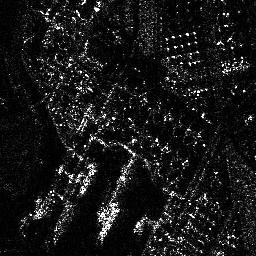ship: (96, 207, 120, 241), (78, 164, 95, 197)
